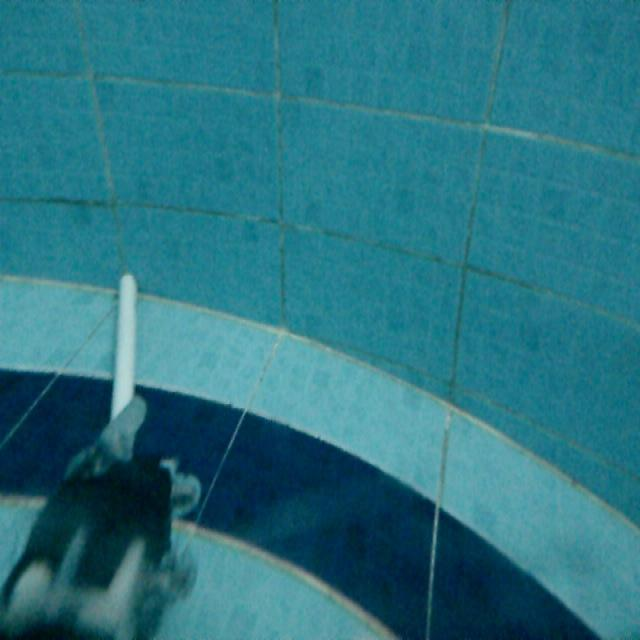Cube: (107, 267, 140, 421)
